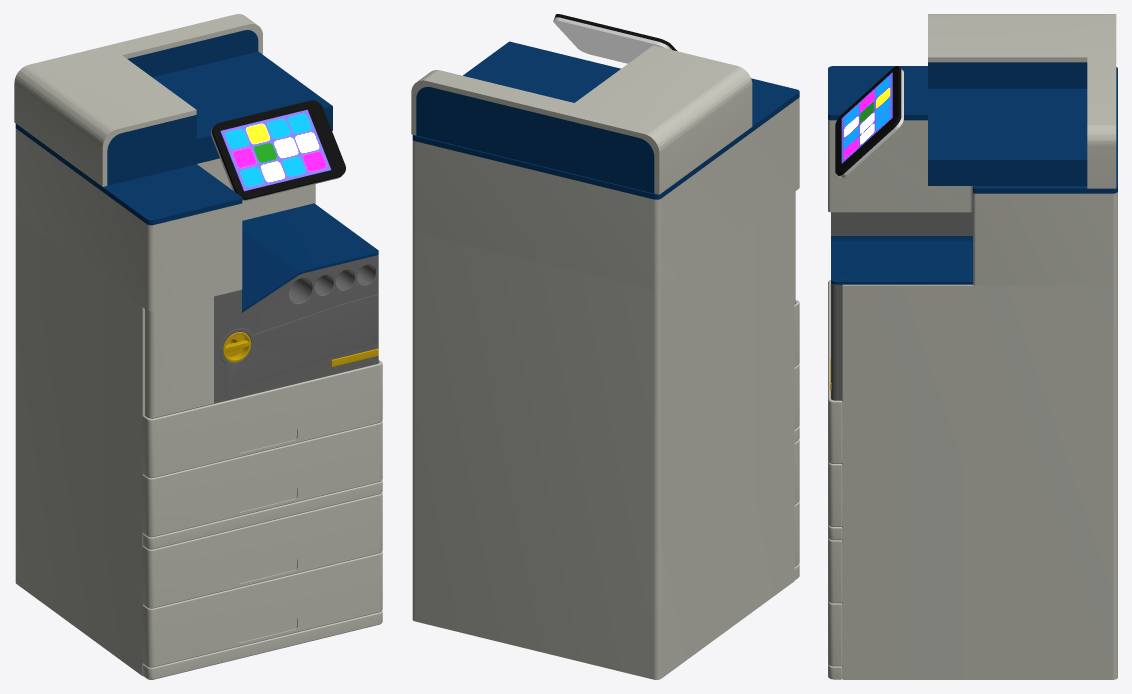
File: copier.dae
3 views of the same model, side by side, from view 1: azimuth 30°, elevation 25°; view 2: azimuth 150°, elevation 25°; view 3: azimuth 270°, elevation 25° (orthographic). The views are drawn at different scales.
Visible parts, largest first — view 1: pivot1, pivot11, pivot10, pivot8, pivot14, pivot4, pivot6, pivot9, pivot2, pivot22, pivot5, pivot15 (+6 smaller); view 2: pivot1, pivot11, pivot10, pivot8, pivot13, pivot37; view 3: pivot1, pivot11, pivot8, pivot10, pivot22, pivot2, pivot13, pivot38, pivot36, pivot14, pivot6, pivot4 (+2 smaller).
Part boxes in pixels (x1=…): pivot1: x1=15, y1=214, x2=144, y2=676; pivot11: x1=15, y1=128, x2=315, y2=311; pivot10: x1=14, y1=14, x2=262, y2=186; pivot8: x1=107, y1=30, x2=332, y2=185; pivot14: x1=142, y1=360, x2=382, y2=478; pivot4: x1=142, y1=552, x2=382, y2=667; pivot6: x1=142, y1=493, x2=382, y2=608; pivot9: x1=142, y1=421, x2=382, y2=537; pivot2: x1=145, y1=254, x2=378, y2=418; pivot22: x1=242, y1=203, x2=378, y2=312; pivot5: x1=145, y1=296, x2=213, y2=417; pivot15: x1=219, y1=294, x2=378, y2=392; pivot1: x1=412, y1=192, x2=794, y2=679; pivot11: x1=412, y1=97, x2=799, y2=290; pivot10: x1=411, y1=45, x2=752, y2=194; pivot8: x1=416, y1=41, x2=654, y2=193; pivot13: x1=412, y1=78, x2=799, y2=199; pivot37: x1=553, y1=17, x2=671, y2=63; pivot1: x1=842, y1=284, x2=1117, y2=679; pivot11: x1=828, y1=119, x2=1117, y2=285; pivot8: x1=928, y1=62, x2=1087, y2=185; pivot10: x1=928, y1=14, x2=1116, y2=188; pivot22: x1=831, y1=236, x2=972, y2=284; pivot2: x1=831, y1=212, x2=972, y2=666; pivot13: x1=828, y1=66, x2=1117, y2=193; pivot38: x1=841, y1=72, x2=892, y2=163; pivot36: x1=835, y1=66, x2=901, y2=175; pivot14: x1=828, y1=280, x2=842, y2=463; pivot6: x1=828, y1=538, x2=842, y2=603; pivot4: x1=828, y1=601, x2=842, y2=666.
Size of the model in its own units: 142 by 296 by 142.
Materials: 6 (1 with a texture image).
